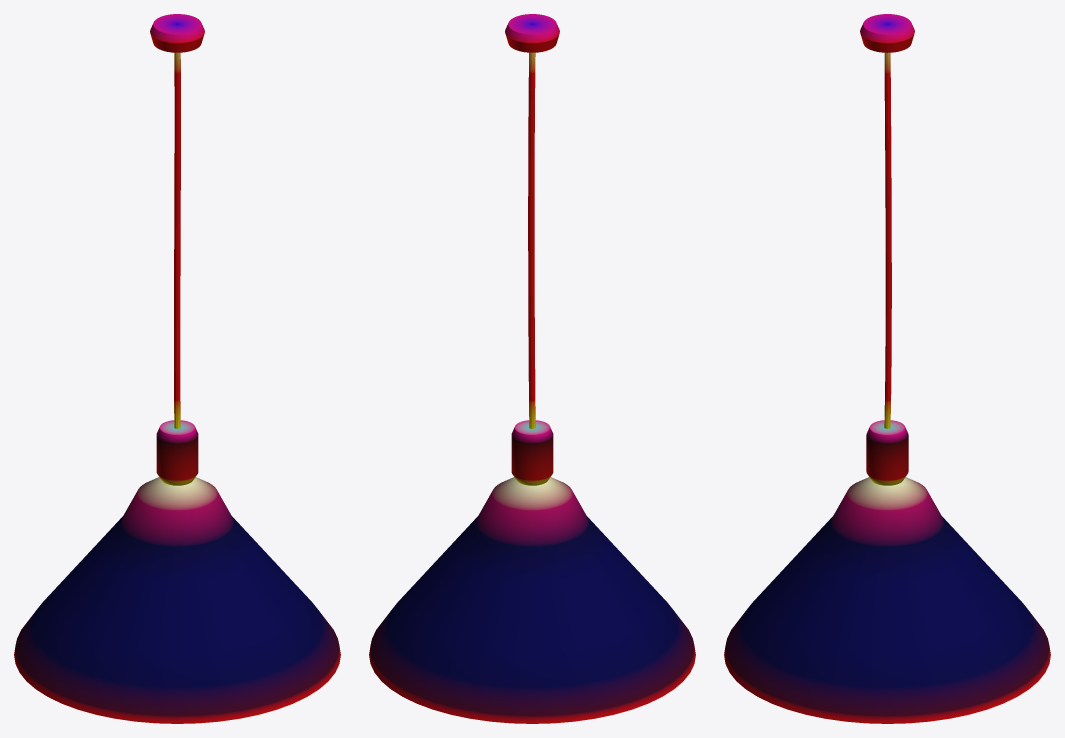
Rendered from prop_pendant_lamp.fbx.
3 renders of one model, left to right at view 1: azimuth 30°, elevation 25°; view 2: azimuth 150°, elevation 25°; view 3: azimuth 270°, elevation 25°, orthographic.
Visible parts, largest first — view 1: prop_pendant_lamp; view 2: prop_pendant_lamp; view 3: prop_pendant_lamp.
Part boxes in pixels (x1=…): prop_pendant_lamp: x1=14, y1=14, x2=340, y2=723; prop_pendant_lamp: x1=369, y1=14, x2=695, y2=723; prop_pendant_lamp: x1=724, y1=14, x2=1050, y2=723.
Bounding box in the file's own units: 0.404 × 0.862 × 0.404.
